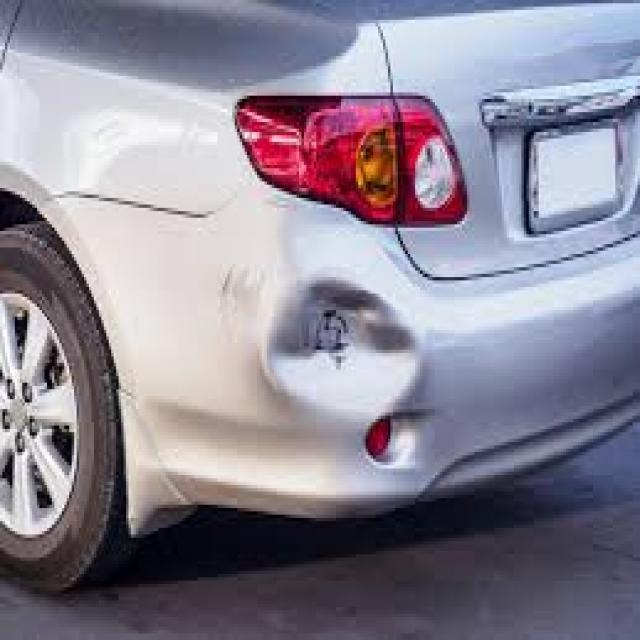dent-or-scratch: (219, 254, 442, 416)
